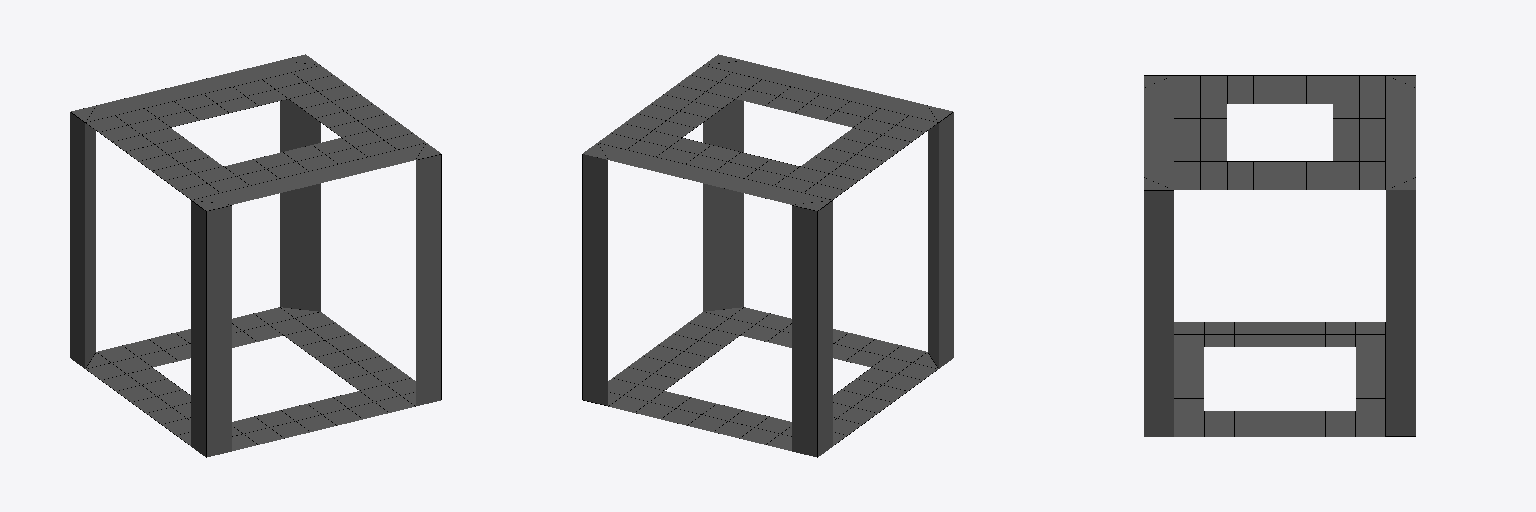
3 renders of one model, left to right at view 1: azimuth 30°, elevation 25°; view 2: azimuth 150°, elevation 25°; view 3: azimuth 270°, elevation 25°, orthographic.
Visible parts, largest first — view 1: box_frame_Grid; view 2: box_frame_Grid; view 3: box_frame_Grid.
Boxes of the visible parts, <box> form: box_frame_Grid: <box>70,54,441,457</box>; box_frame_Grid: <box>582,54,953,457</box>; box_frame_Grid: <box>1144,75,1415,436</box>.
Size of the model in its own units: 2 by 2 by 2.
Materials: 1 (1 with a texture image).